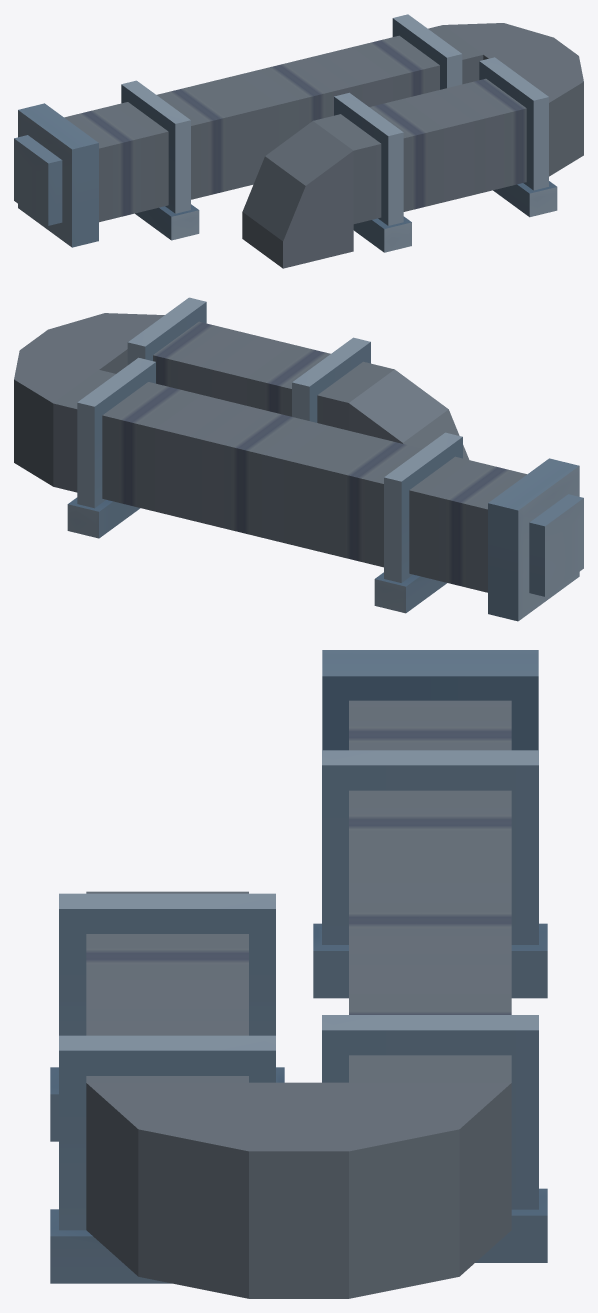
File: SM_VentShaft_Roof_01.fbx
3 views of the same model, one above another, from view 1: azimuth 30°, elevation 25°; view 2: azimuth 150°, elevation 25°; view 3: azimuth 270°, elevation 25° (orthographic). The views are drawn at different scales.
Visible parts, largest first — view 1: SM_VentShaft_Roof_01; view 2: SM_VentShaft_Roof_01; view 3: SM_VentShaft_Roof_01.
Boxes of the visible parts, x1,y1,x2,y2 form: SM_VentShaft_Roof_01: (14,14,583,268); SM_VentShaft_Roof_01: (14,297,583,621); SM_VentShaft_Roof_01: (50,650,547,1298).
Bounding box in the file's own units: 5.2 × 1.12 × 2.23.
